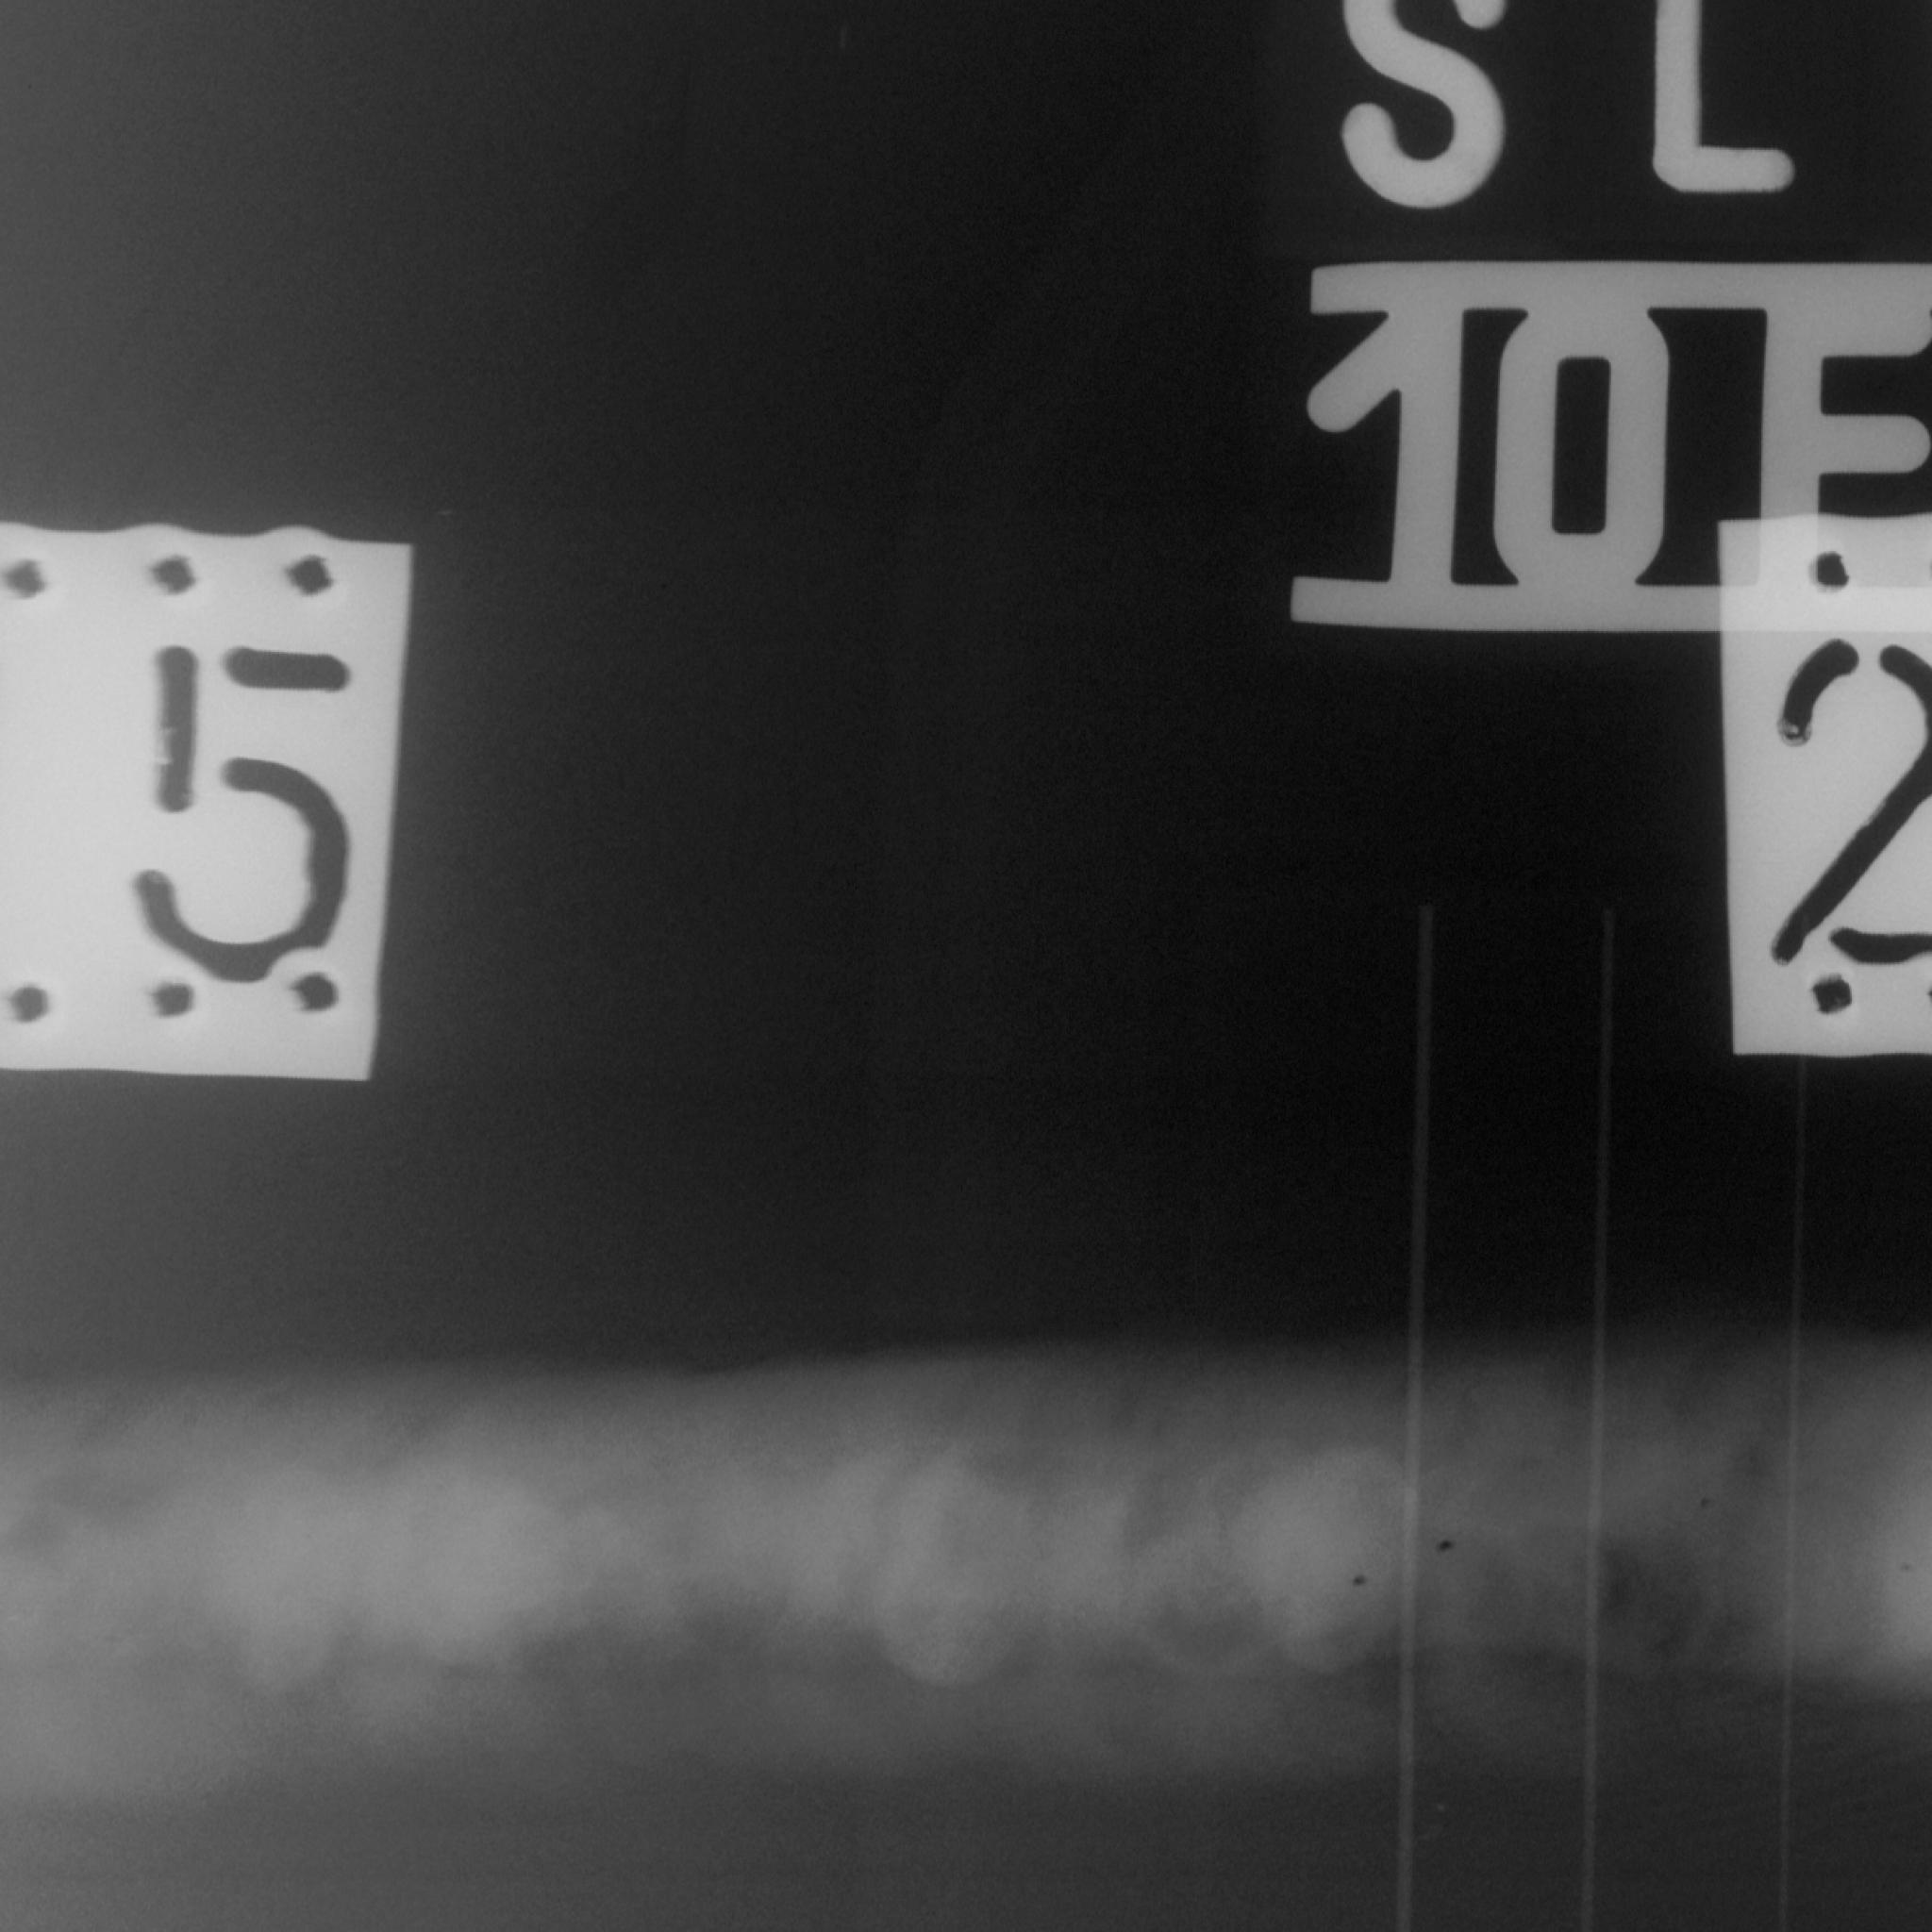FF: (444, 1594, 1145, 1801), (1486, 1516, 1789, 1727)
PO: (1430, 1527, 1465, 1566), (1345, 1566, 1378, 1601), (1893, 1552, 1921, 1587), (1695, 1488, 1716, 1518)
